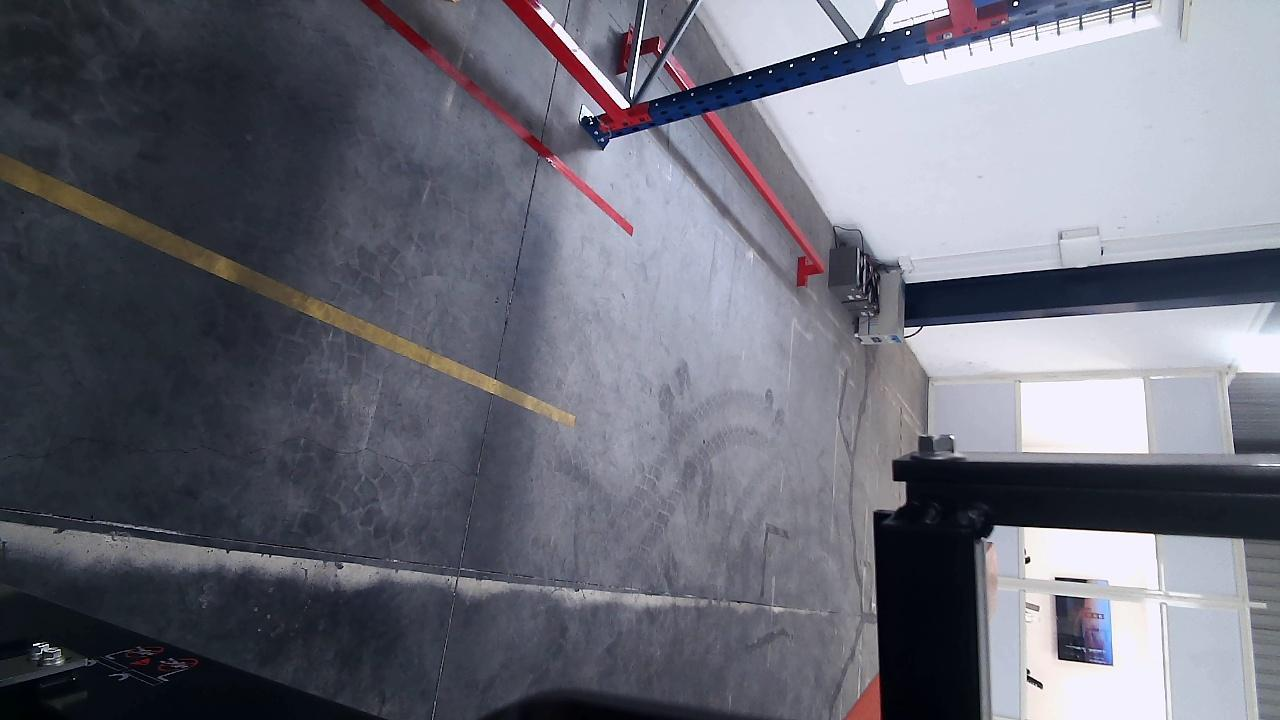h_rack: (502, 4, 628, 117)
red_line: (365, 0, 635, 235)
yellow_line: (0, 145, 576, 429)
